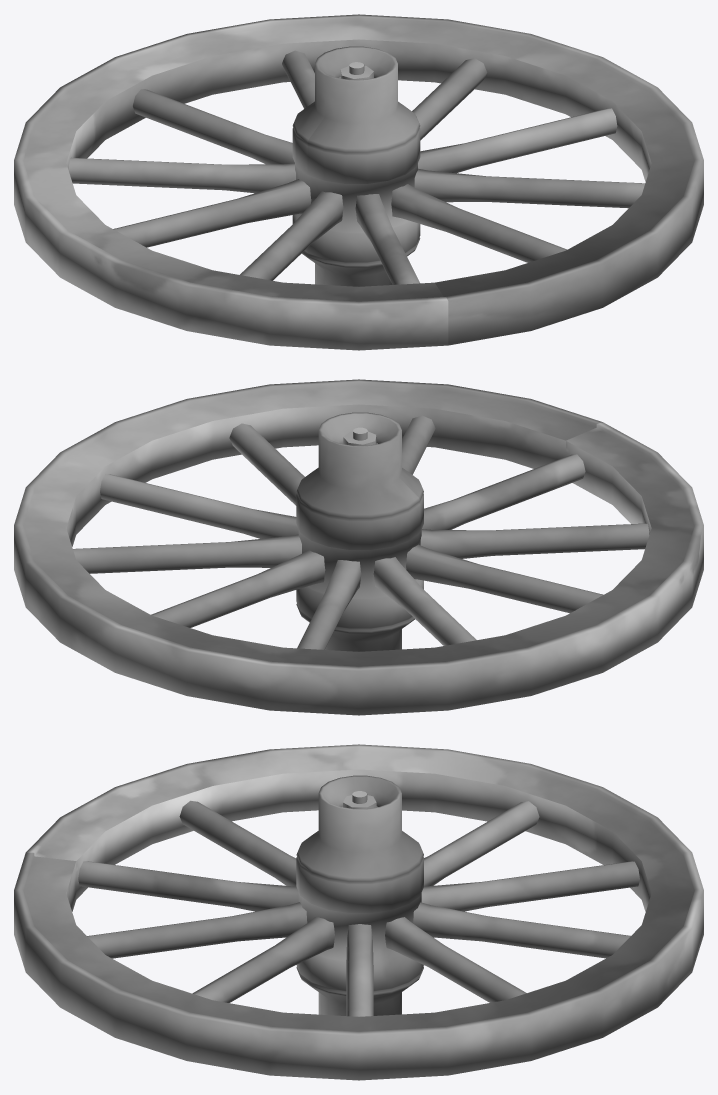
Rendered from SM_CartWheel_01a.fbx.
The picture shows the model from 3 angles, top to bottom: view 1: azimuth 30°, elevation 25°; view 2: azimuth 150°, elevation 25°; view 3: azimuth 270°, elevation 25°; orthographic projection.
Parts seen in each view (by area): view 1: SM_CartWheel_01a_LOD0; view 2: SM_CartWheel_01a_LOD0; view 3: SM_CartWheel_01a_LOD0.
Part boxes in pixels (box(x1,y1,x2,y2)): SM_CartWheel_01a_LOD0: box(14, 14, 703, 350); SM_CartWheel_01a_LOD0: box(14, 379, 703, 715); SM_CartWheel_01a_LOD0: box(14, 744, 703, 1080).
Bounding box in the file's own units: 102 × 102 × 38.59.
